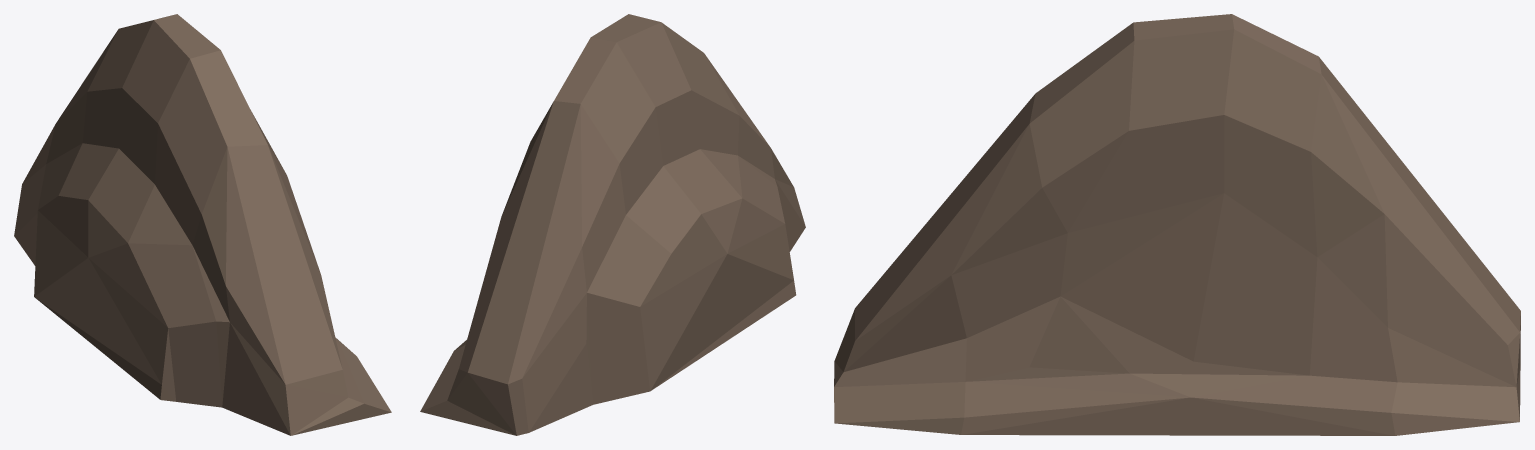
Rendered from rock11.fbx.
3 views of the same model, side by side, from view 1: azimuth 30°, elevation 25°; view 2: azimuth 150°, elevation 25°; view 3: azimuth 270°, elevation 25° (orthographic). The views are drawn at different scales.
Visible parts, largest first — view 1: Rock11; view 2: Rock11; view 3: Rock11.
Part boxes in pixels (x1,y1,x2,y2): Rock11: (14,14,391,435); Rock11: (420,14,805,435); Rock11: (834,14,1520,435).
Bounding box in the file's own units: 2.59 × 3.93 × 6.72.
